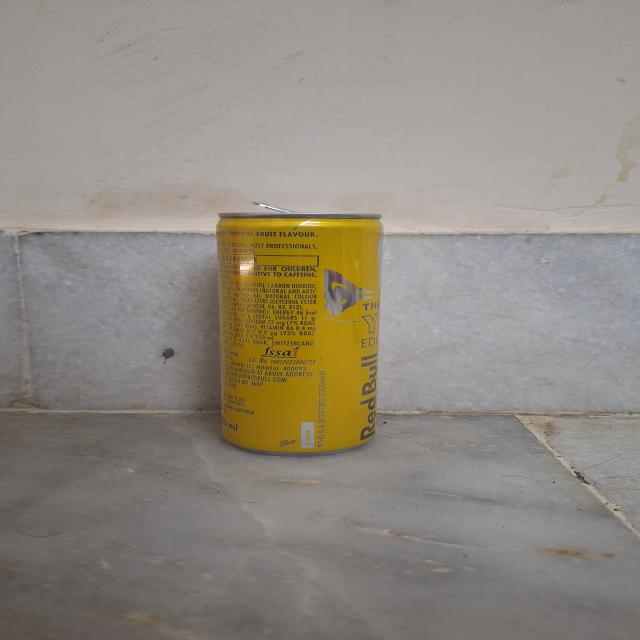Redbull Yellow Edition: (180, 204, 401, 458)
